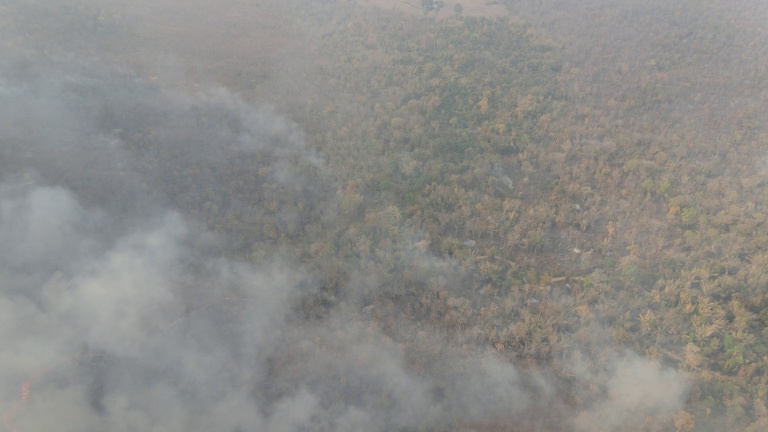fire: (160, 288, 261, 332), (1, 370, 47, 432)
smoke: (1, 233, 282, 432), (203, 88, 326, 182), (580, 343, 690, 422)
